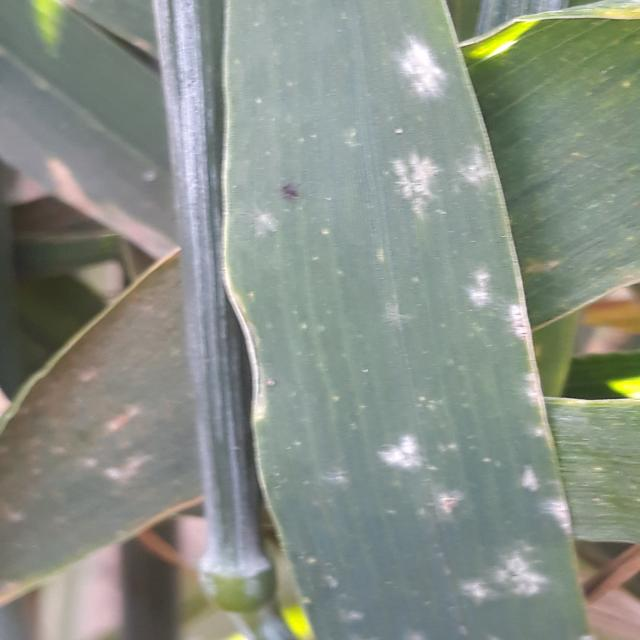powder_mildew: (226, 6, 600, 638), (0, 240, 223, 616), (4, 109, 186, 262)
